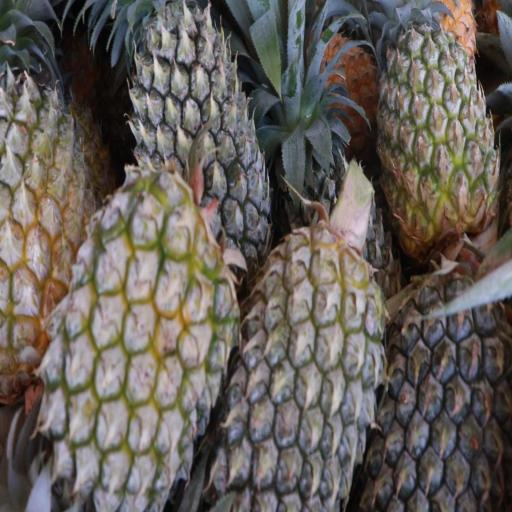------------------------------: (43, 180, 229, 510), (0, 0, 94, 380), (379, 0, 495, 246)
